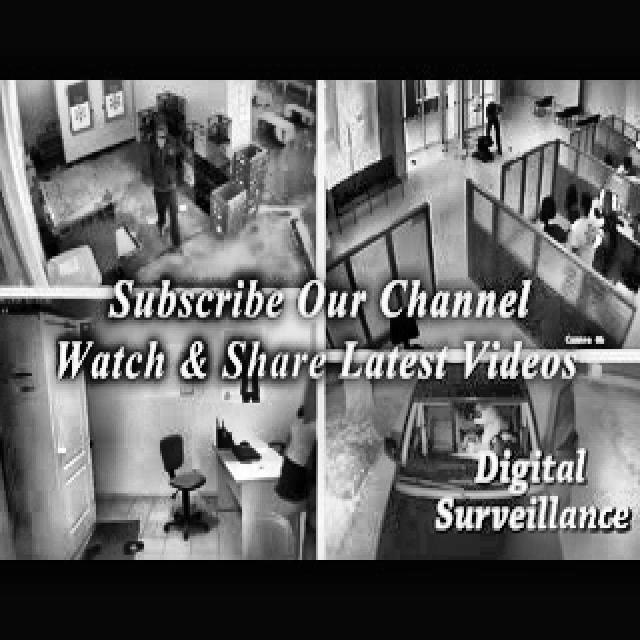burglary: (141, 115, 203, 258)
